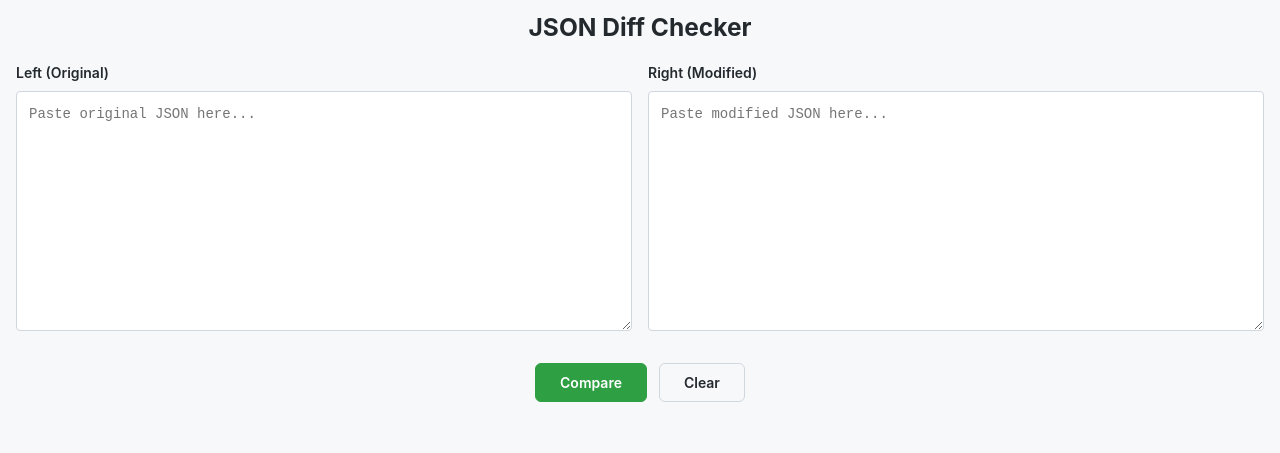
Scenario: App — Integration Tests › T2-06 (AC-3): both invalid → both error messages visible simultaneously
Click the text box named "Left JSON input" at (324, 211), box left=16, top=91, right=632, bottom=331
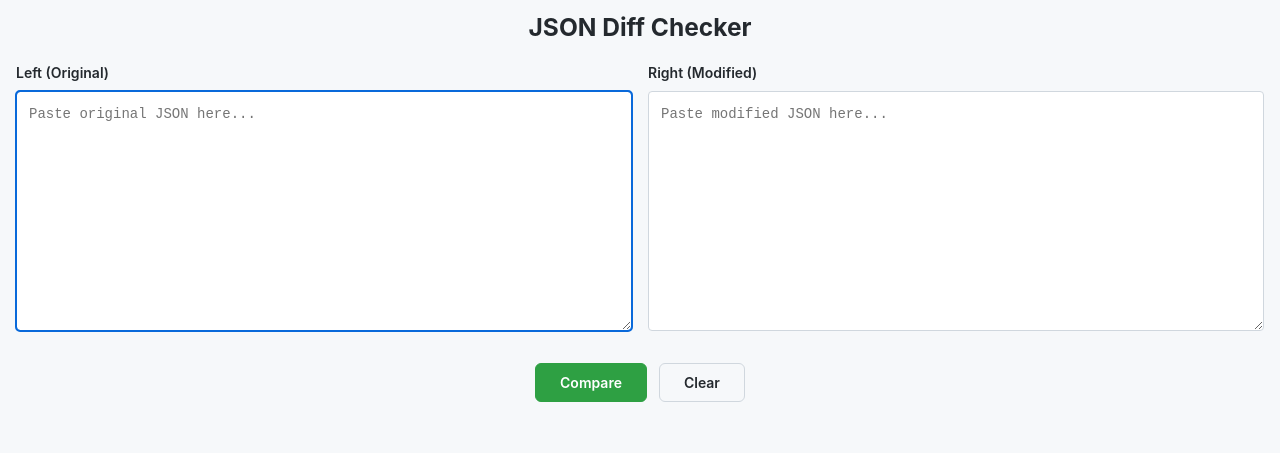
Press Bad
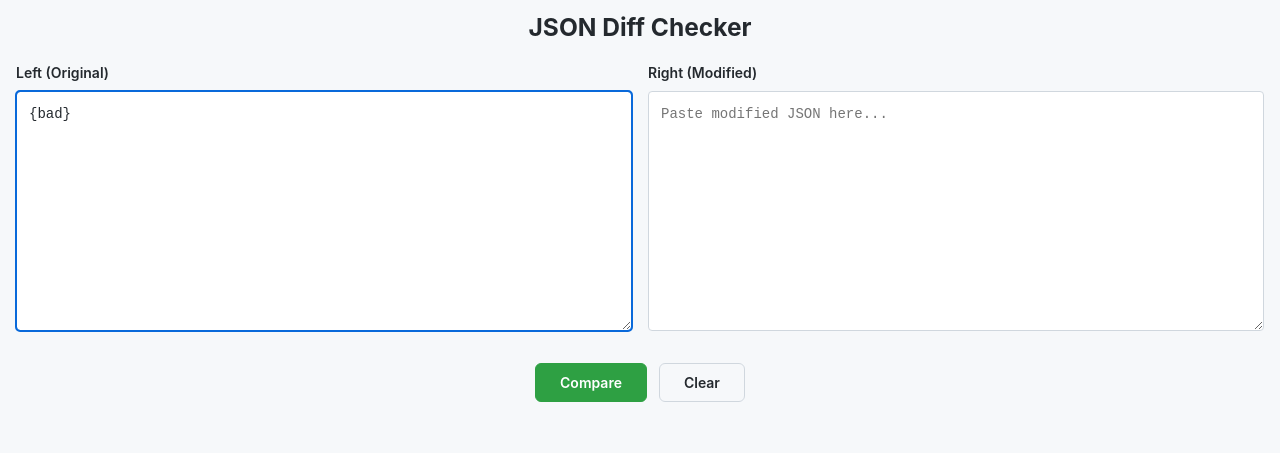
Click the text box named "Right JSON input" at (956, 211), box left=648, top=91, right=1264, bottom=331
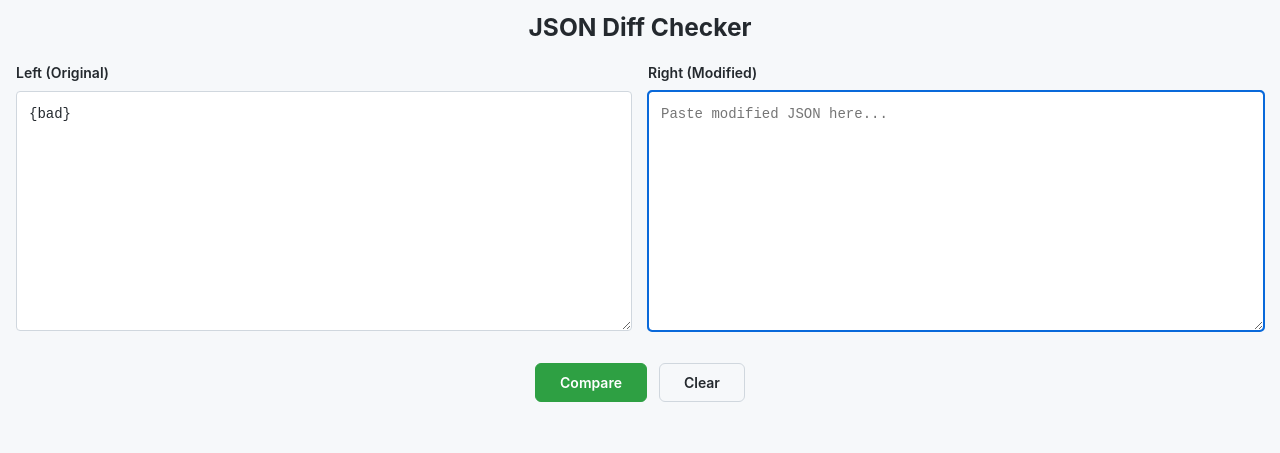
Type keys "{also bad}"
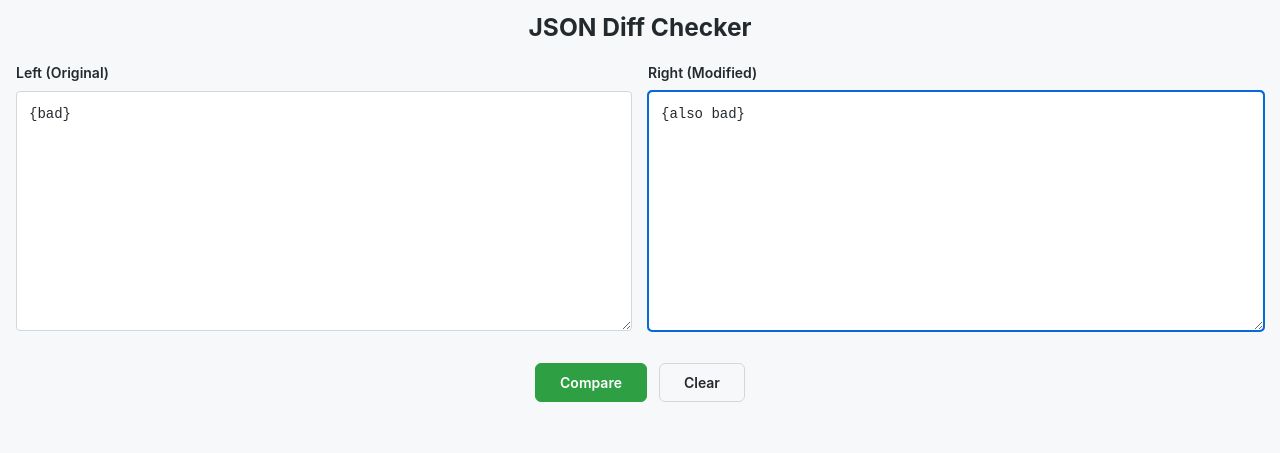
Click the button "Compare" at (591, 382), box left=535, top=363, right=647, bottom=402
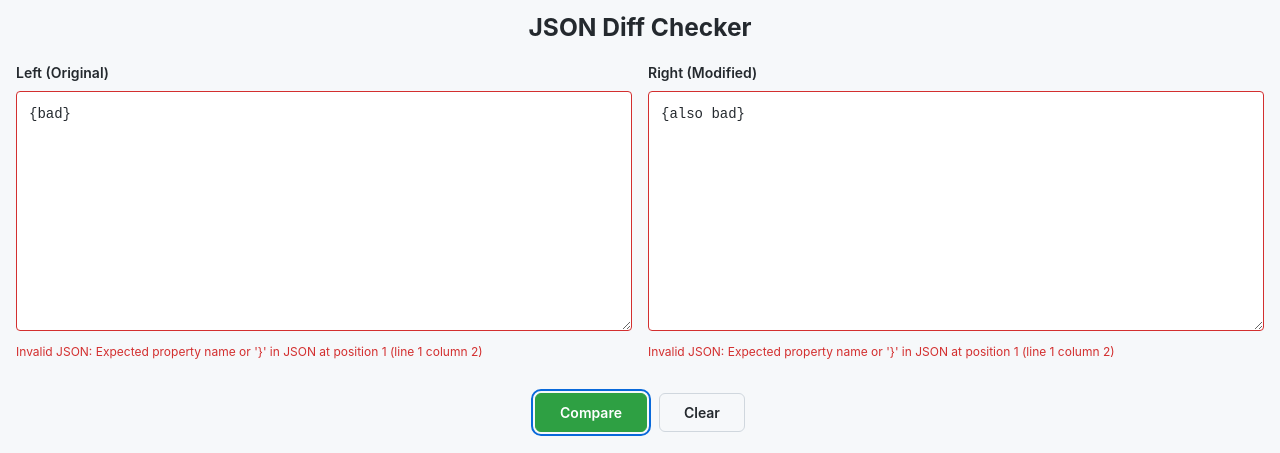
Expected: the number of messages is 2, left=16, top=344, right=483, bottom=359; left=648, top=344, right=1115, bottom=359
Expected: the message below "Left (Original)" shows "Invalid JSON", left=16, top=344, right=483, bottom=359
Expected: the message below "Right (Modified)" shows "Invalid JSON", left=648, top=344, right=1115, bottom=359
